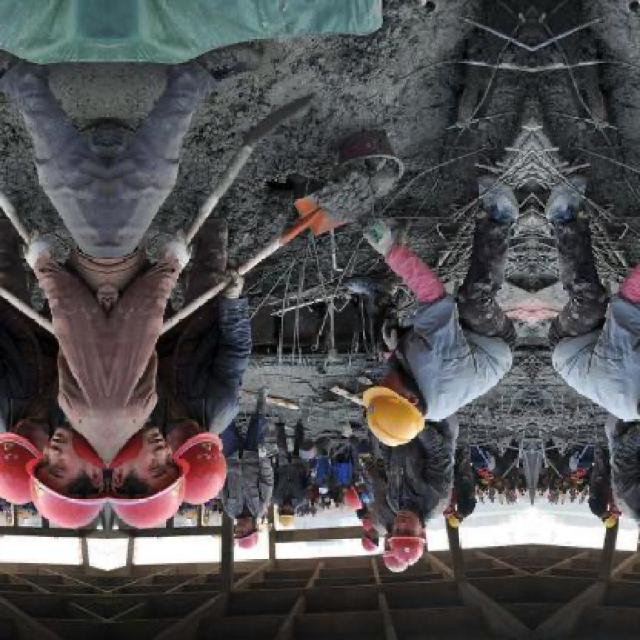con casco: (128, 434, 228, 543), (178, 432, 270, 536), (386, 372, 485, 464), (372, 507, 437, 582)
